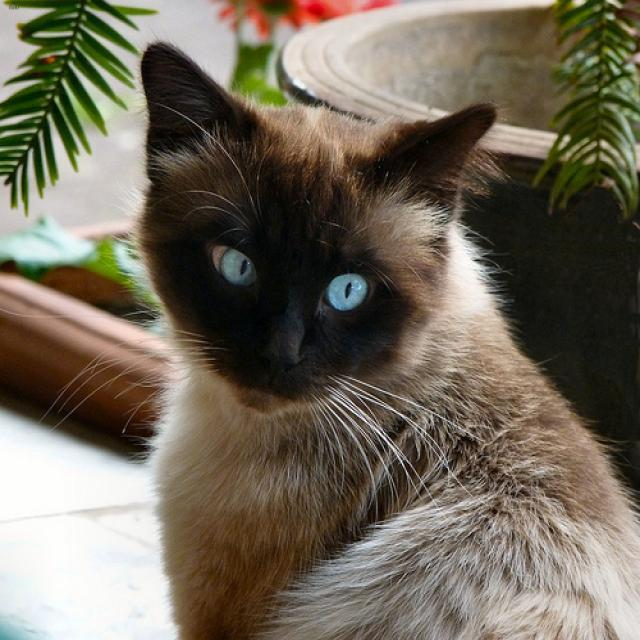Siamese: (141, 35, 504, 429)
